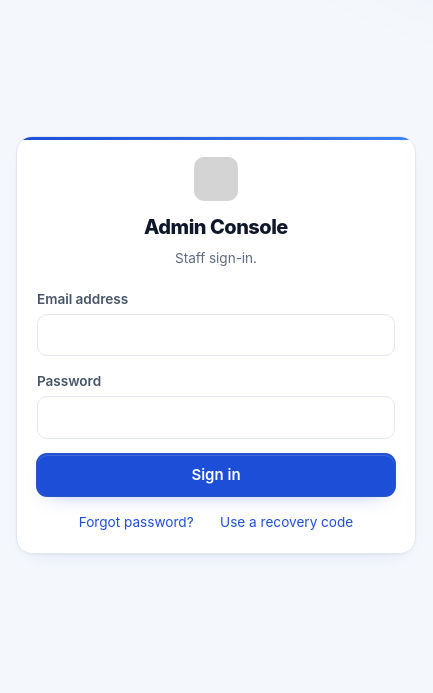
AdminLogin › reveals the TOTP field and message when the account has 2FA (totp_required)
The width and height of the screenshot is (433, 693).
In the field labelled "Email address": point(216, 335) [37,314,395,356], type "a@b.co"
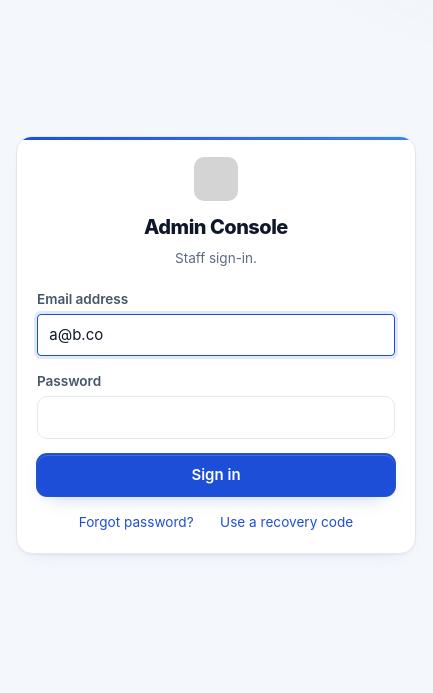
In the password field labelled "Password": point(216, 418) [37,396,395,439], type "pw"
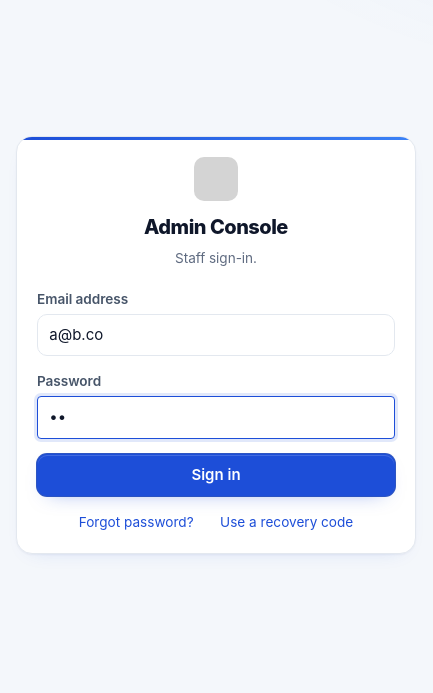
Click the button "Sign in": point(216, 475) [37,454,395,496]
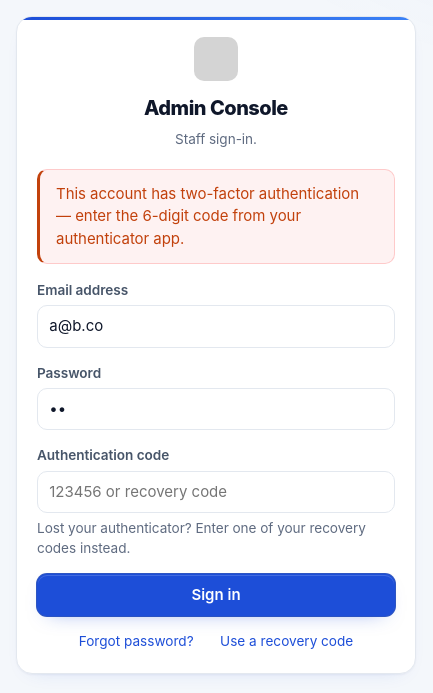
Now the field labelled "Authentication code" is shown, box [37,470,395,513]
Now the message shows "two-factor authentication", box [56,184,359,248]
